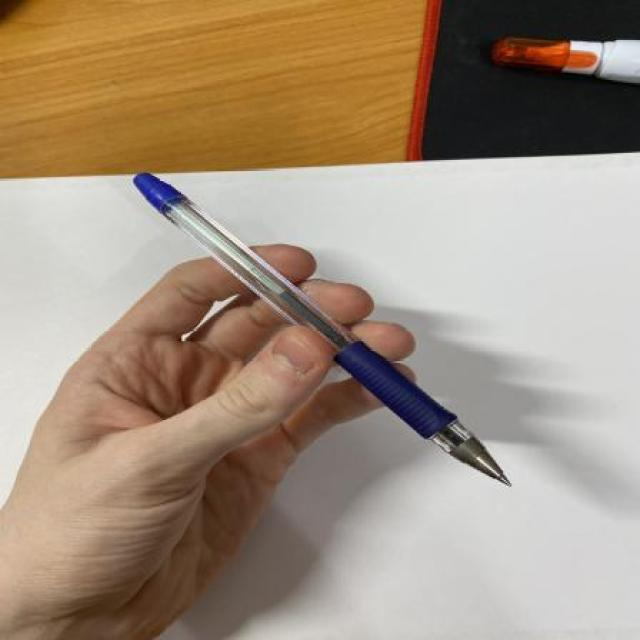pen: (130, 170, 516, 490)
